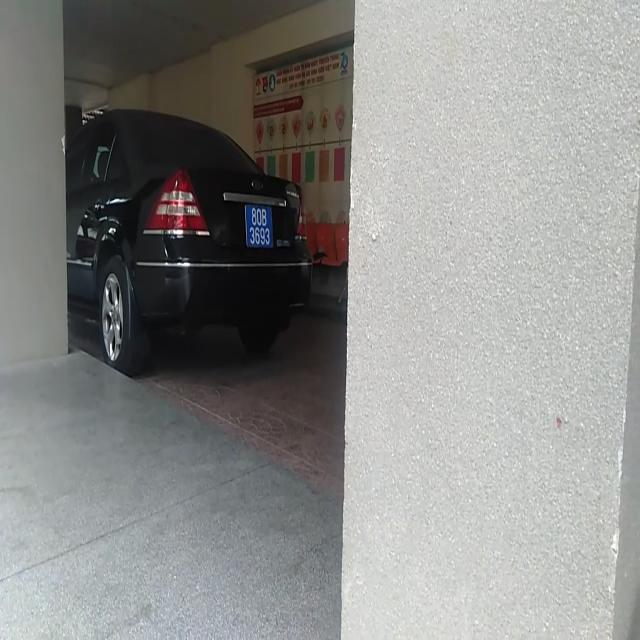bien_xanh: (240, 200, 278, 253)
